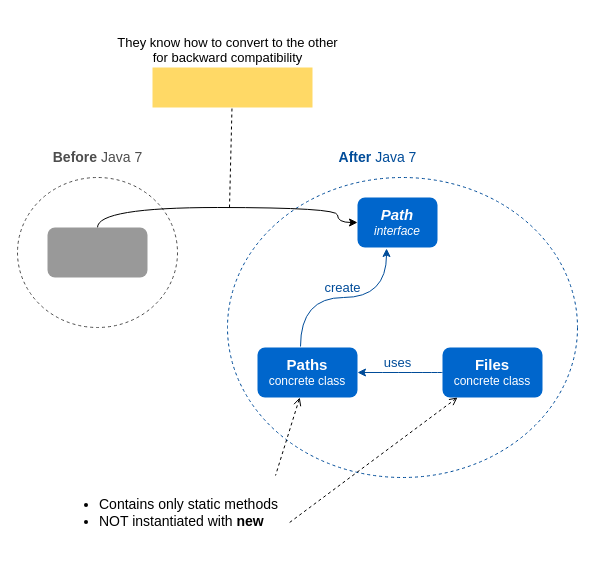
The diagram is 595 pixels wide and 564 high, and some of its shapes have lost their labels. The centre of each missing label's shape, as x and y in pixels:
"File concrete class" goes at point 97,252.
"Path path = file.toPath() File file = path.toFile()" goes at point 232,87.
